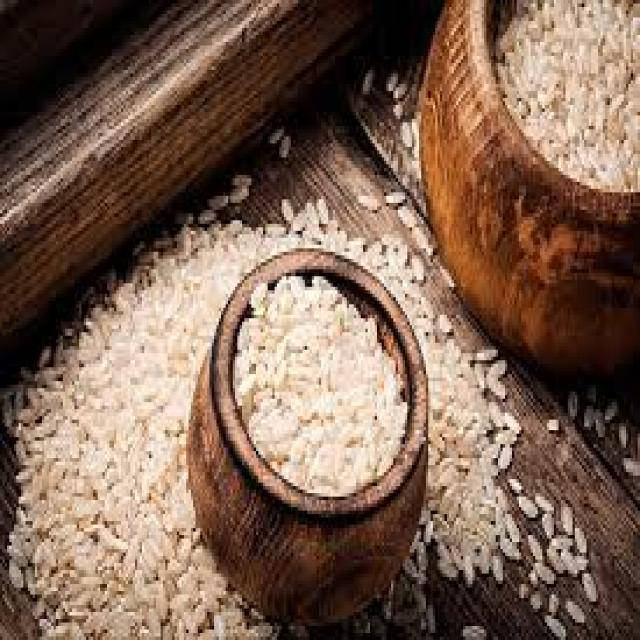POHA: (21, 227, 296, 637), (237, 276, 405, 493), (498, 0, 638, 189)
